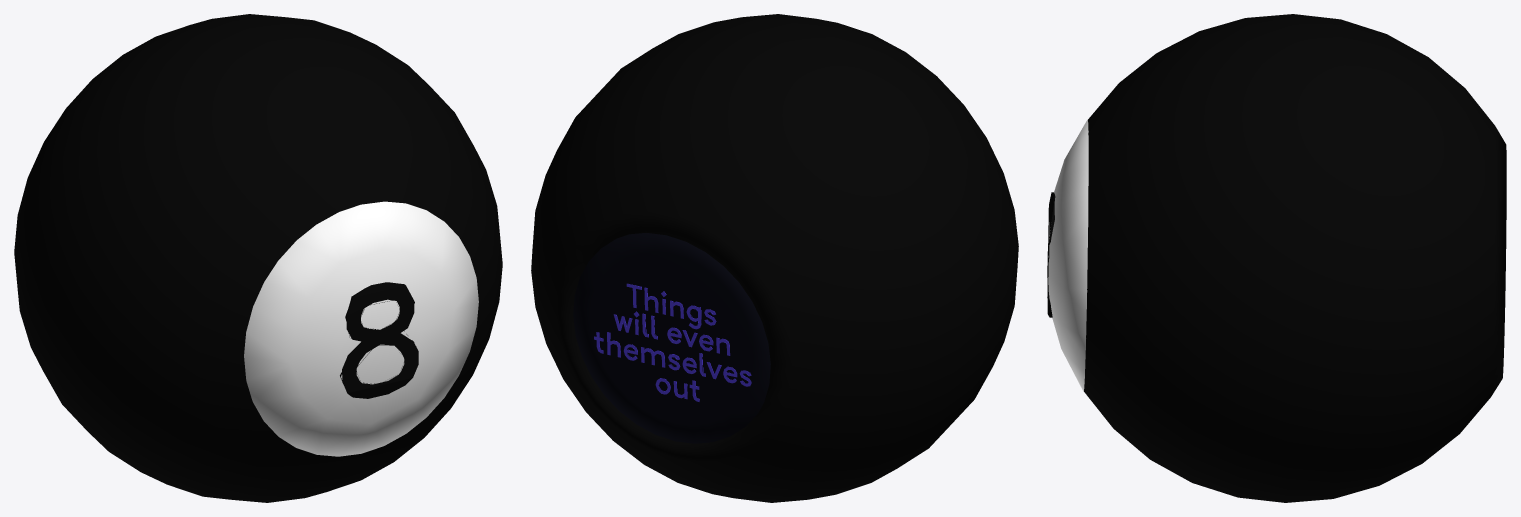
The model's file is MAGIC 8-Things will even themselves out.glb.
The picture shows the model from 3 angles, left to right: view 1: azimuth 30°, elevation 25°; view 2: azimuth 150°, elevation 25°; view 3: azimuth 270°, elevation 25°; orthographic projection.
Visible parts, largest first — view 1: BOULE, BLANC; view 2: BOULE, ECRAN, Text; view 3: BOULE, BLANC.
Boxes of the visible parts, <box> form: BOULE: <box>14,14,502,502</box>; BLANC: <box>244,201,478,456</box>; BOULE: <box>531,14,1018,502</box>; ECRAN: <box>573,233,770,443</box>; Text: <box>594,283,751,401</box>; BOULE: <box>1047,14,1506,502</box>; BLANC: <box>1047,119,1088,391</box>.
Bounding box in the file's own units: 2 × 2 × 1.88.
